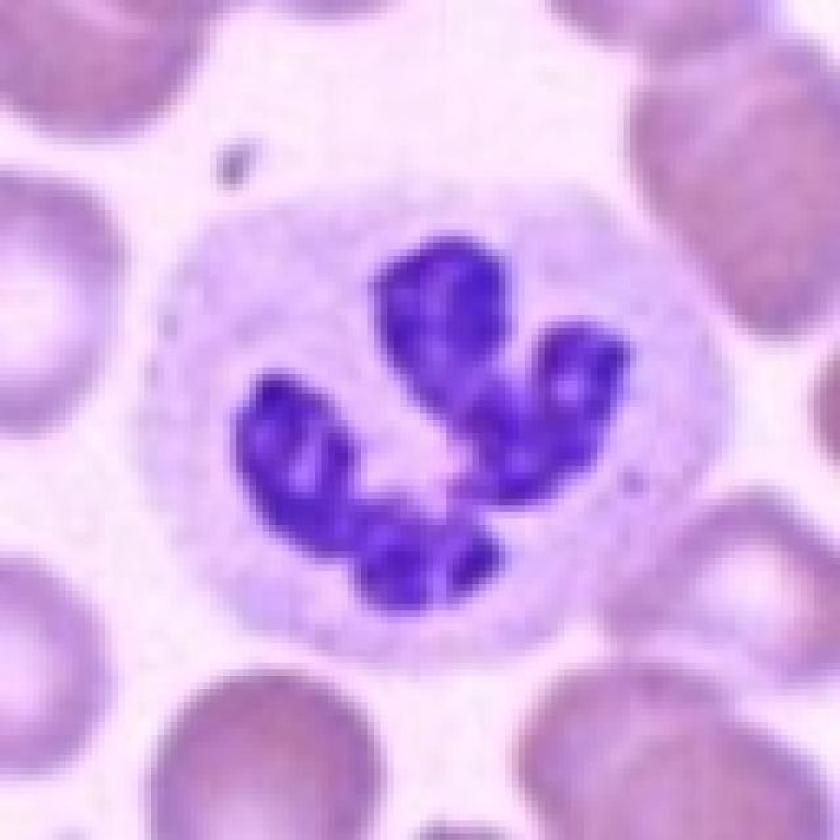neutrophil: (161, 225, 718, 668)
